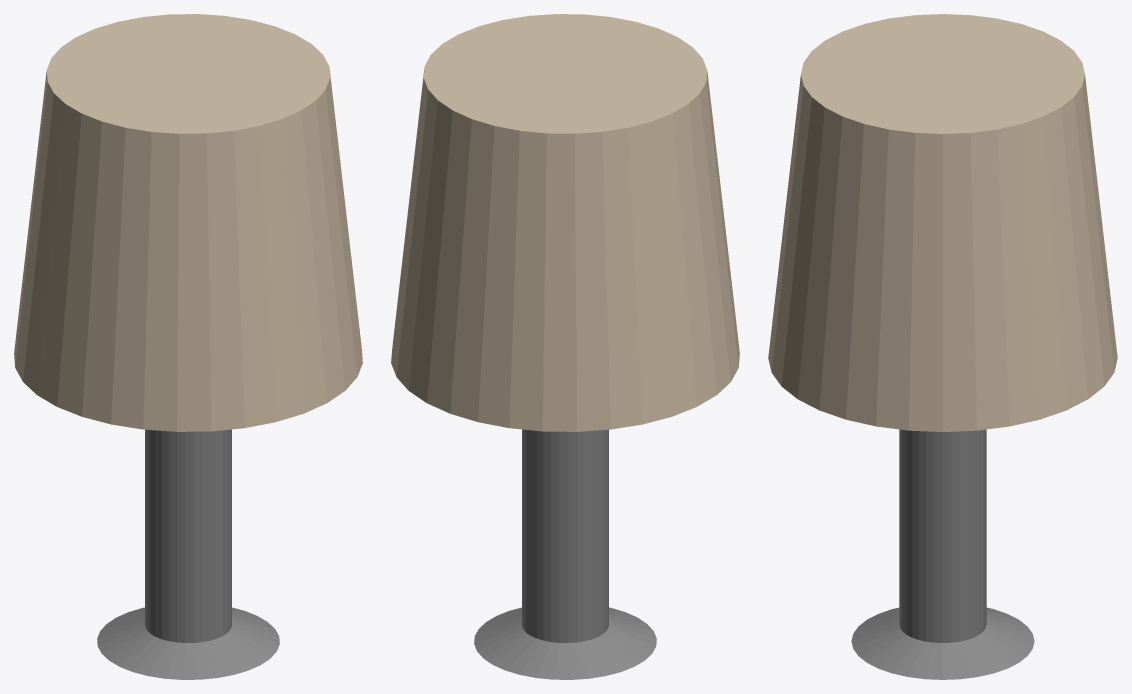
The model's file is tischlampe3.fbx.
The picture shows the model from 3 angles, left to right: view 1: azimuth 30°, elevation 25°; view 2: azimuth 150°, elevation 25°; view 3: azimuth 270°, elevation 25°; orthographic projection.
Parts seen in each view (by area): view 1: Cylinder.001; view 2: Cylinder.001; view 3: Cylinder.001.
Part boxes in pixels (box(x1,y1,x2,y2)): Cylinder.001: box(14, 14, 362, 679); Cylinder.001: box(391, 14, 739, 679); Cylinder.001: box(768, 14, 1117, 679).
Size of the model in its own units: 30 by 53.73 by 30.
